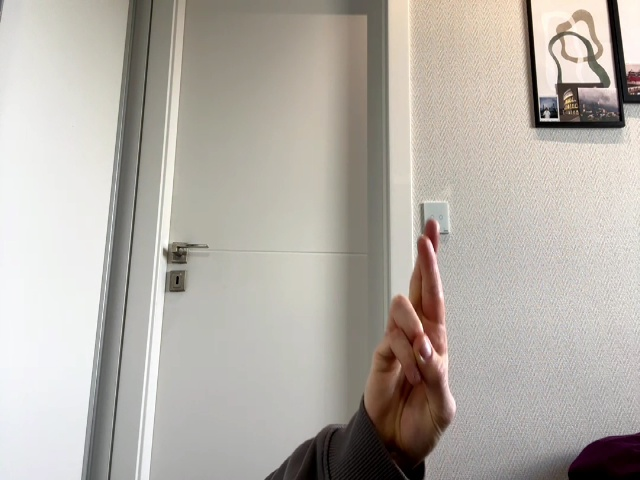R: (373, 219, 456, 437)
